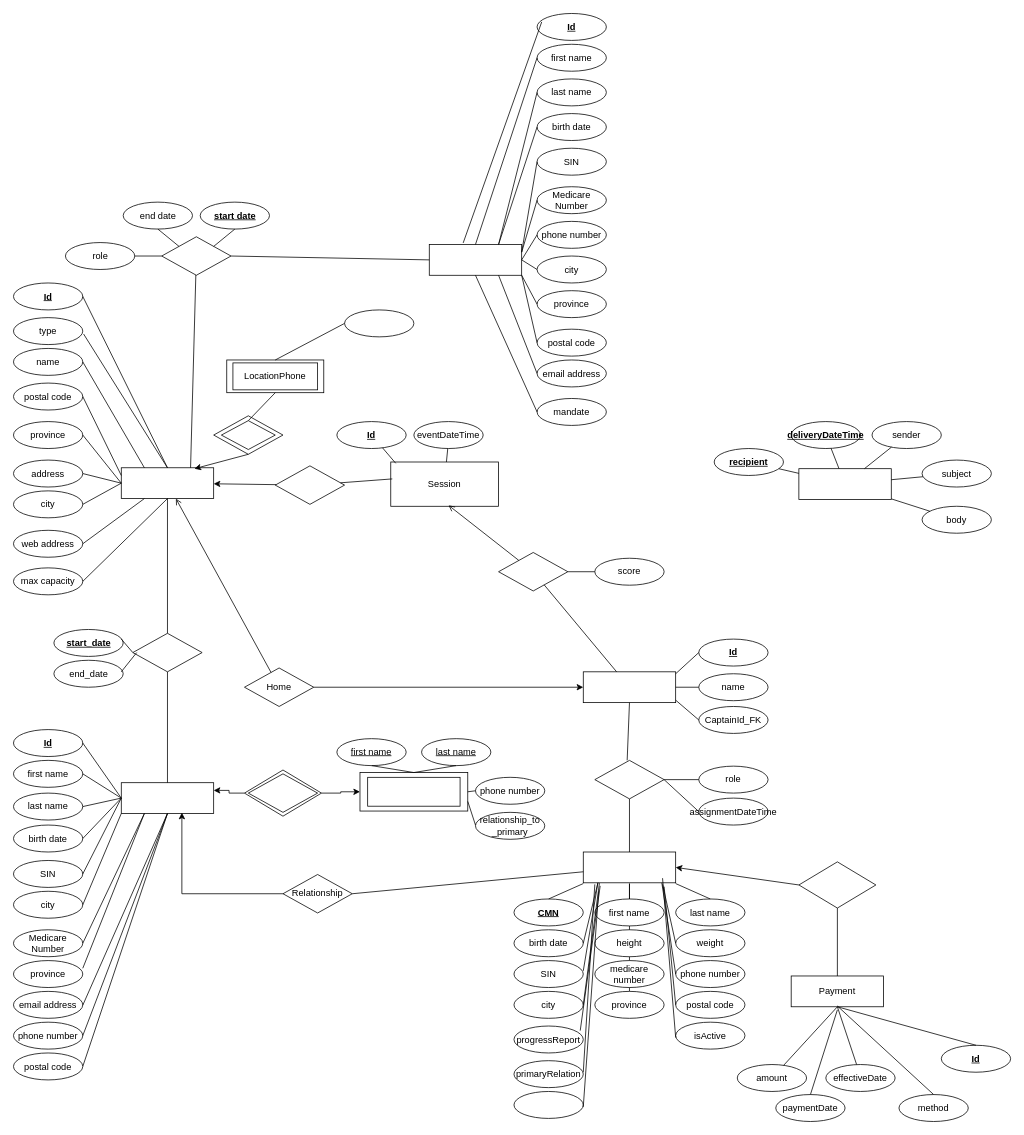
This 1024x1135 diagram has some shape labels left out. The centre of each missing label's shape, as x and y in pixels:
"Associated" belongs at pixel 167 652.
"Club Member" belongs at pixel 629 867.
"designates" belongs at pixel 283 792.
"Family Member" belongs at pixel 167 798.
"Has" belongs at pixel 248 435.
"Hosts" belongs at pixel 310 484.
"Location" belongs at pixel 167 483.
"LogEmail" belongs at pixel 844 483.
"Makes" belongs at pixel 837 884.
"Operates" belongs at pixel 196 255.
"Participates" belongs at pixel 533 571.
"Personnel" belongs at pixel 475 259.
"PhoneNumber" belongs at pixel 379 323.
"PlaysFor" belongs at pixel 629 779.
"Secondary Family Member" belongs at pixel 413 791.
"secondaryRelation" belongs at pixel 548 1104.
"TeamFormation" belongs at pixel 629 687.
